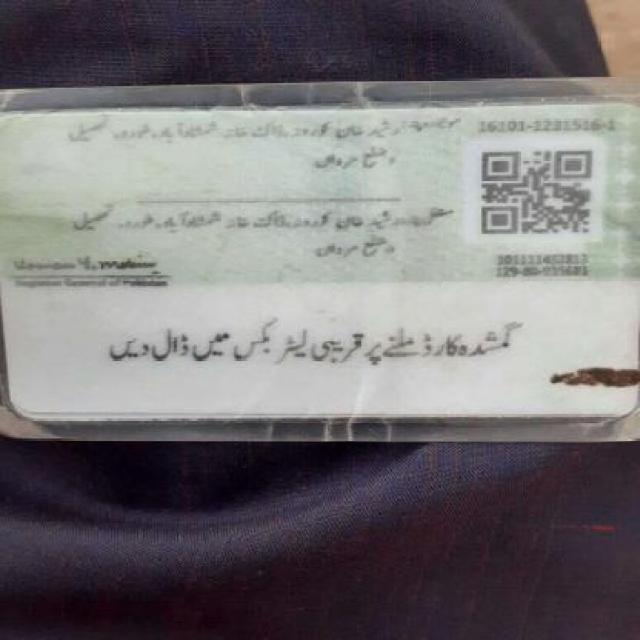Back: (8, 95, 635, 448)
